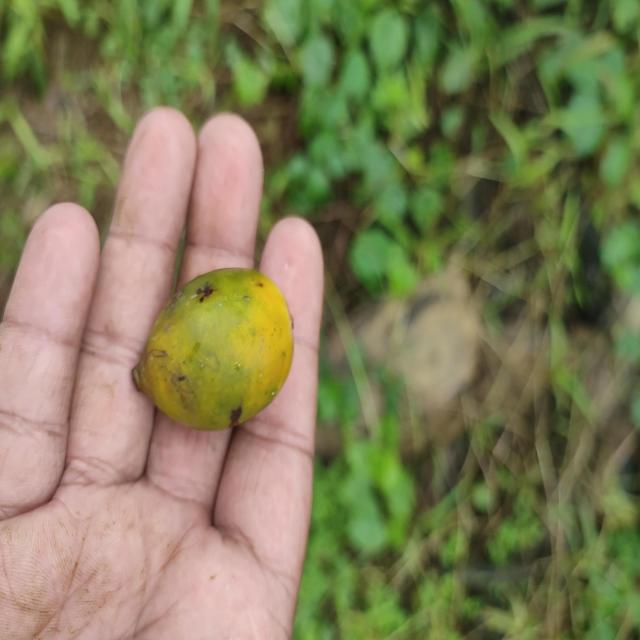good: (132, 269, 294, 433)
